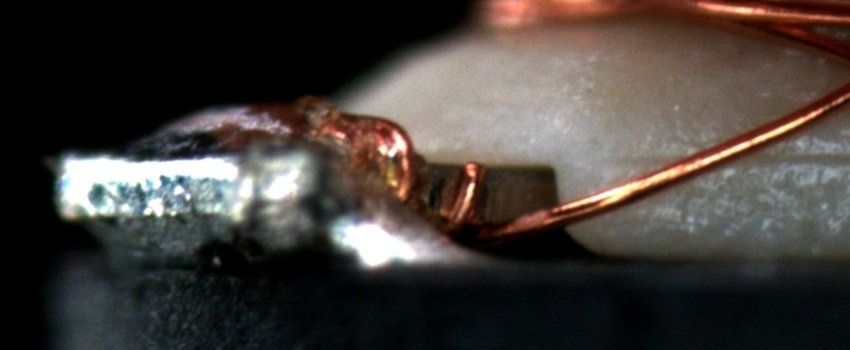DL: (606, 130, 849, 189)
TE: (303, 100, 490, 240)
